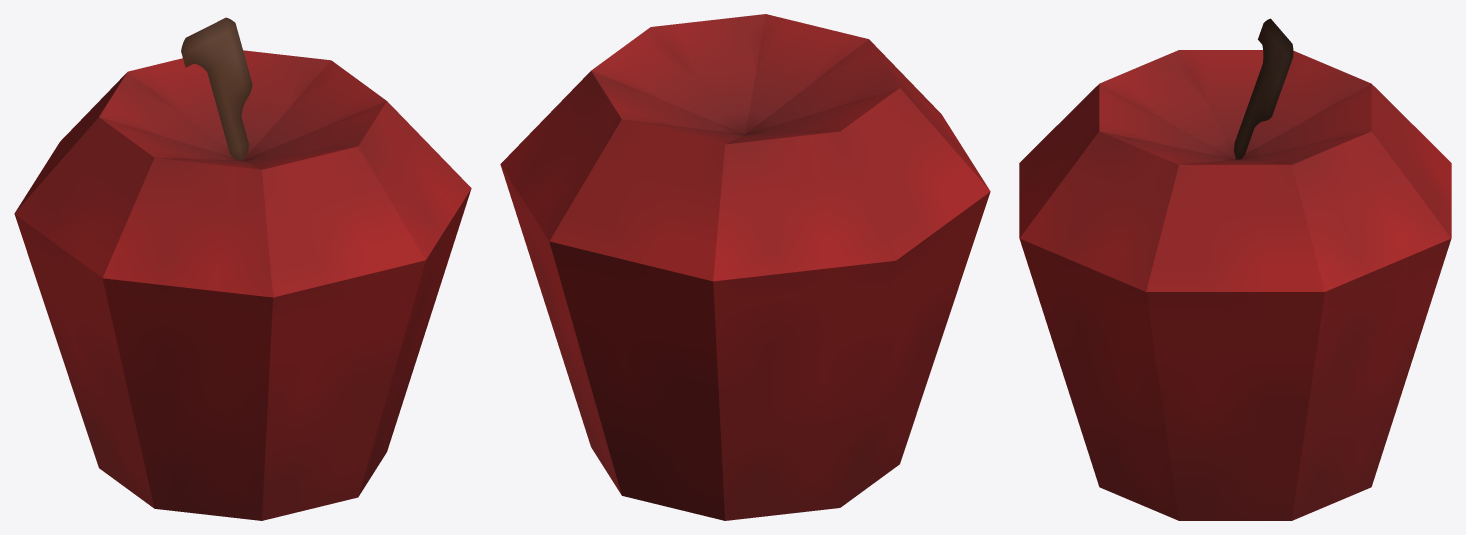
Rendered from Apple.FBX.
3 views of the same model, side by side, from view 1: azimuth 30°, elevation 25°; view 2: azimuth 150°, elevation 25°; view 3: azimuth 270°, elevation 25° (orthographic). The views are drawn at different scales.
Visible parts, largest first — view 1: Apple; view 2: Apple; view 3: Apple.
Part boxes in pixels (x1,y1,x2,y2): Apple: (14,17,471,520); Apple: (500,14,990,520); Apple: (1019,18,1451,520).
Size of what is drawn, in the model's own units: 18.02 by 18.02 by 19.56.
